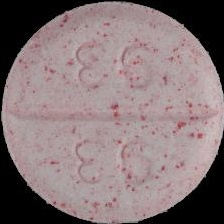0093-0778: (0, 0, 224, 224)
